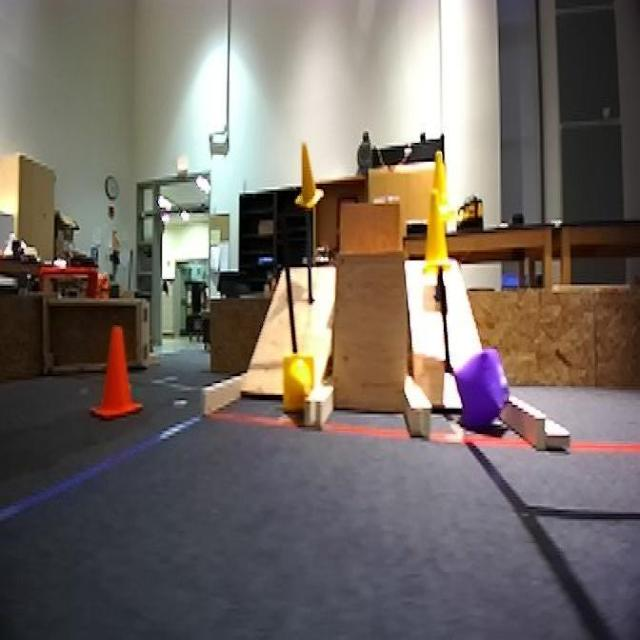frc_cone: (282, 356, 328, 420), (294, 143, 328, 214), (425, 200, 456, 270), (427, 152, 453, 232)
frc_cube: (454, 347, 504, 427)
